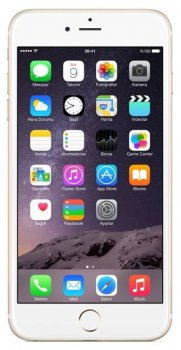Handphone: (1, 4, 175, 343)
